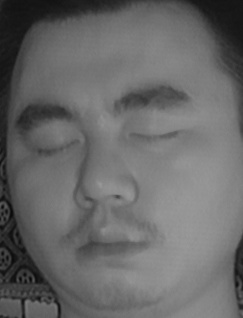blink: (127, 118, 181, 155), (32, 132, 82, 165)
mouth: (64, 215, 153, 277)
